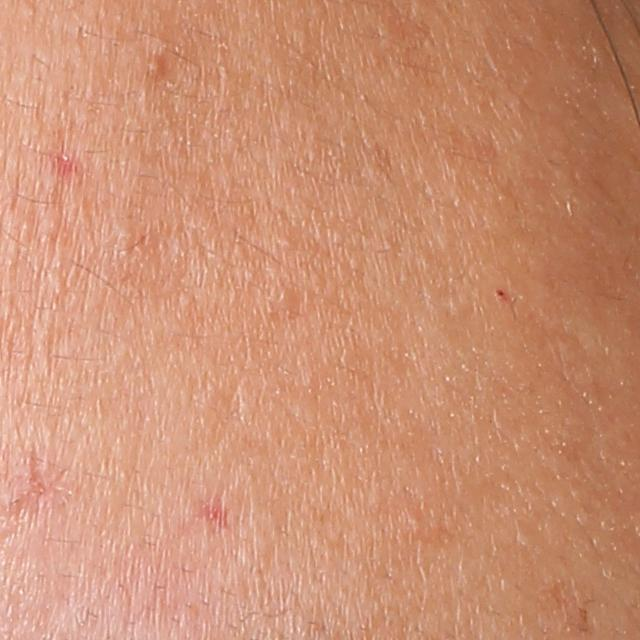comedo: (141, 51, 168, 86), (113, 221, 135, 250)
